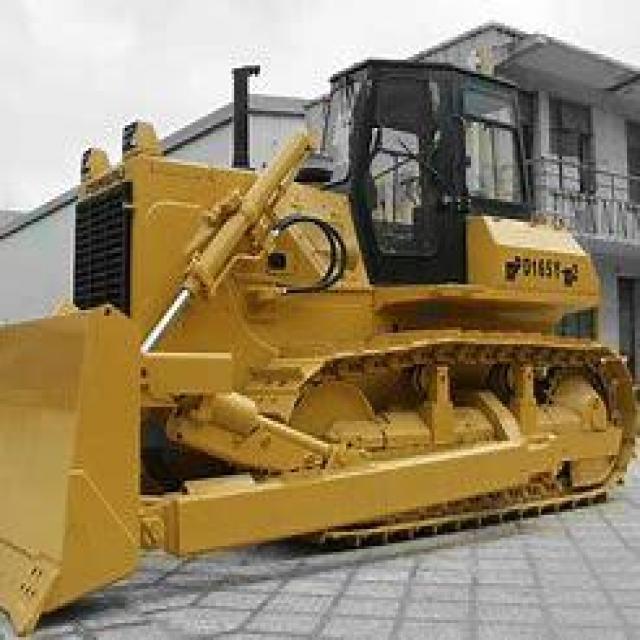Bulldozer: (5, 28, 638, 626)
